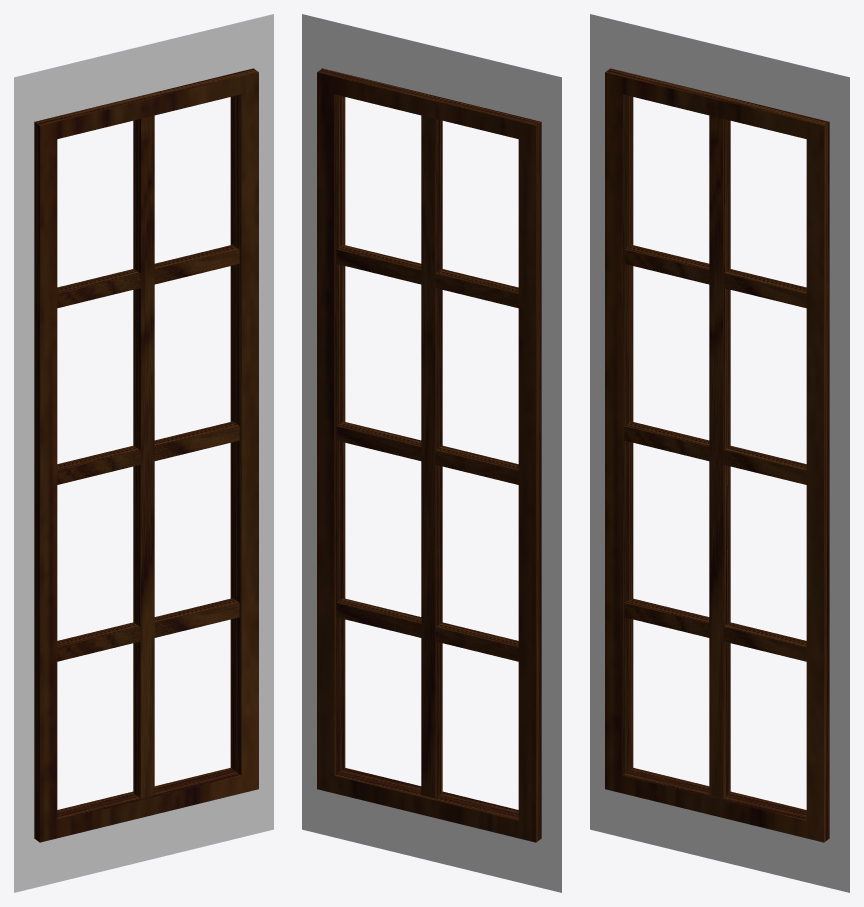
The model's file is bigWindow.fbx.
3 renders of one model, left to right at view 1: azimuth 30°, elevation 25°; view 2: azimuth 150°, elevation 25°; view 3: azimuth 330°, elevation 25°, orthographic.
Parts seen in each view (by area): view 1: Cube.008; view 2: Cube.008; view 3: Cube.008.
Part boxes in pixels (left/top/right/bottom): Cube.008: left=14, top=14, right=273, bottom=892; Cube.008: left=302, top=14, right=561, bottom=892; Cube.008: left=590, top=14, right=849, bottom=892.
Bounding box in the file's own units: 6 × 18 × 0.4402.
